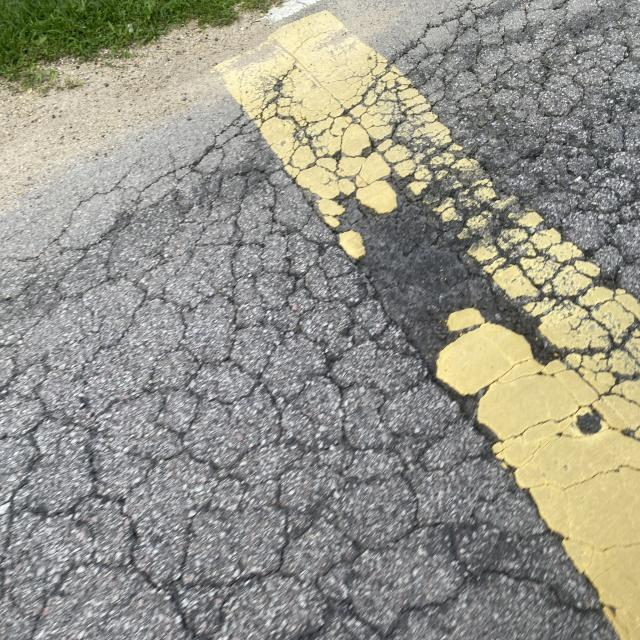pothole: (304, 174, 542, 450)
